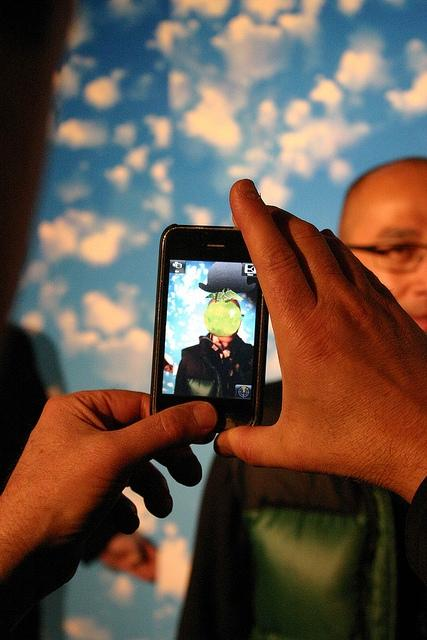apple: (204, 298, 242, 337)
